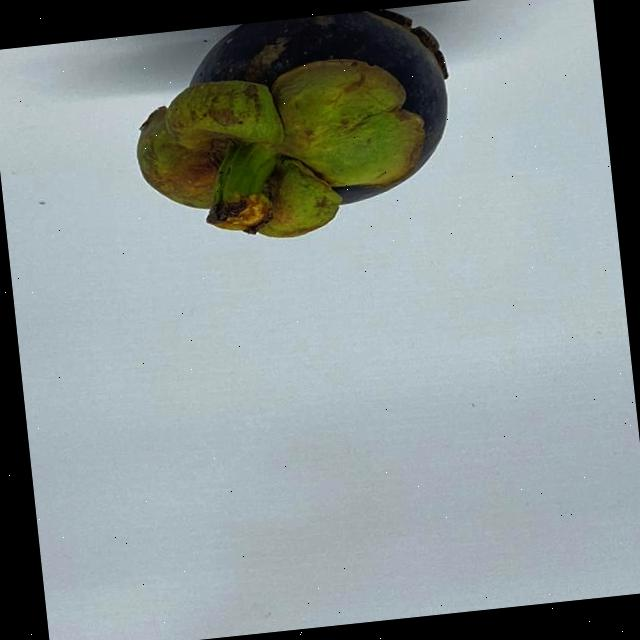mangosteen: (120, 0, 478, 286)
